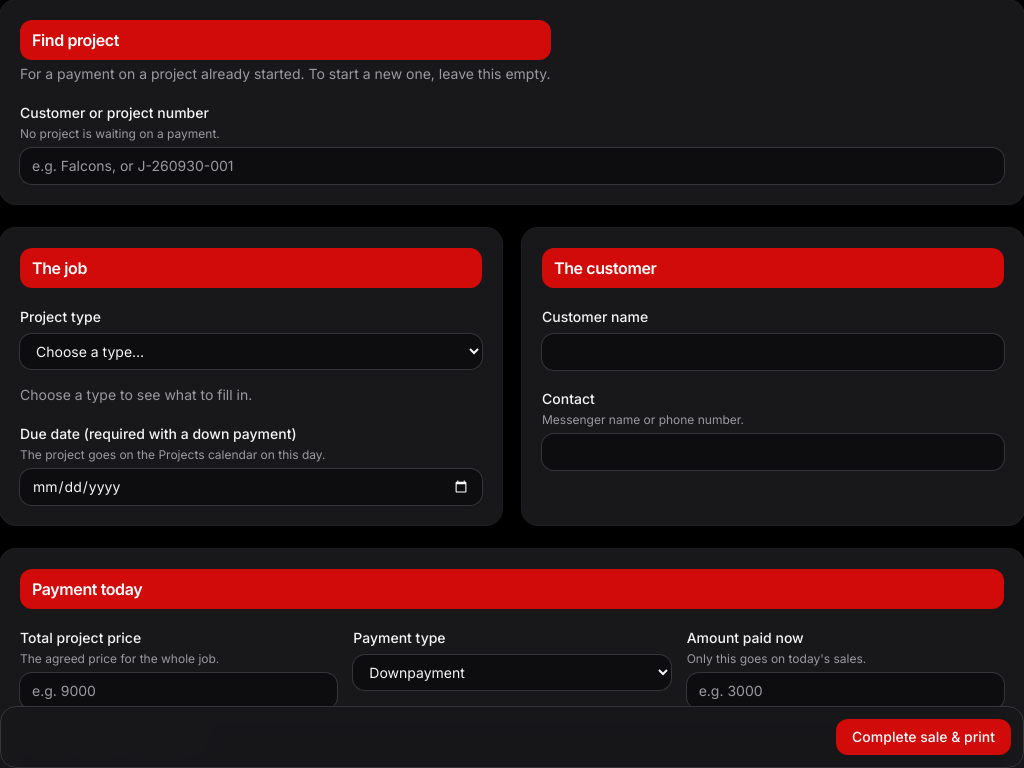
Scenario: the job › asks printing for an item, a quantity and specs
This screenshot has width=1024, height=768.
Select "Printing" in the dropdown labelled "Project type": (251, 352) [20,334,482,369]
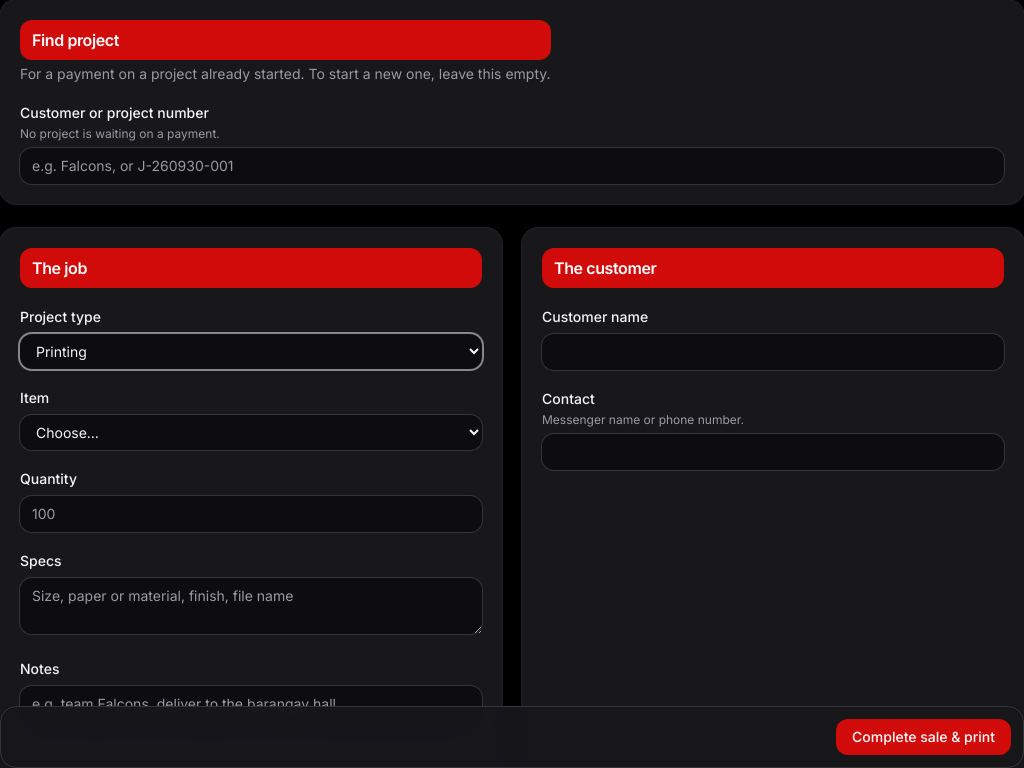
Result: the dropdown labelled "Item" is shown at [20,415,482,450]
Result: the field labelled "Quantity" is shown at [20,496,482,532]
Result: the text box labelled "Specs" is shown at [20,578,482,634]
